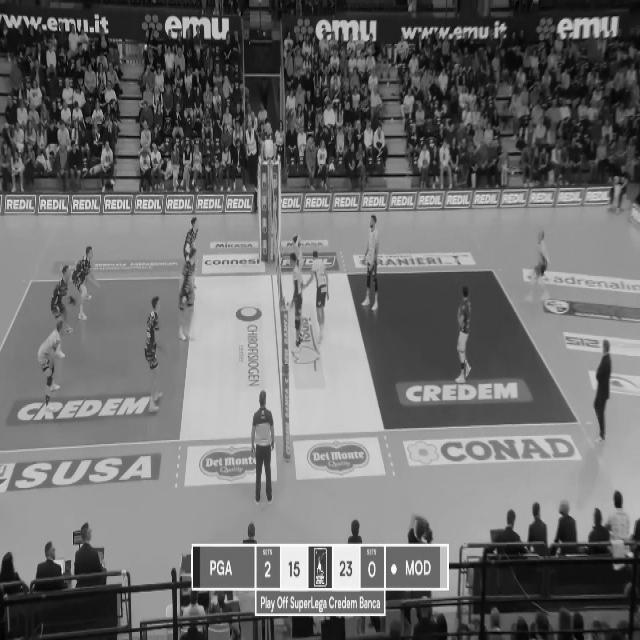volleyball court: (0, 266, 578, 456)
